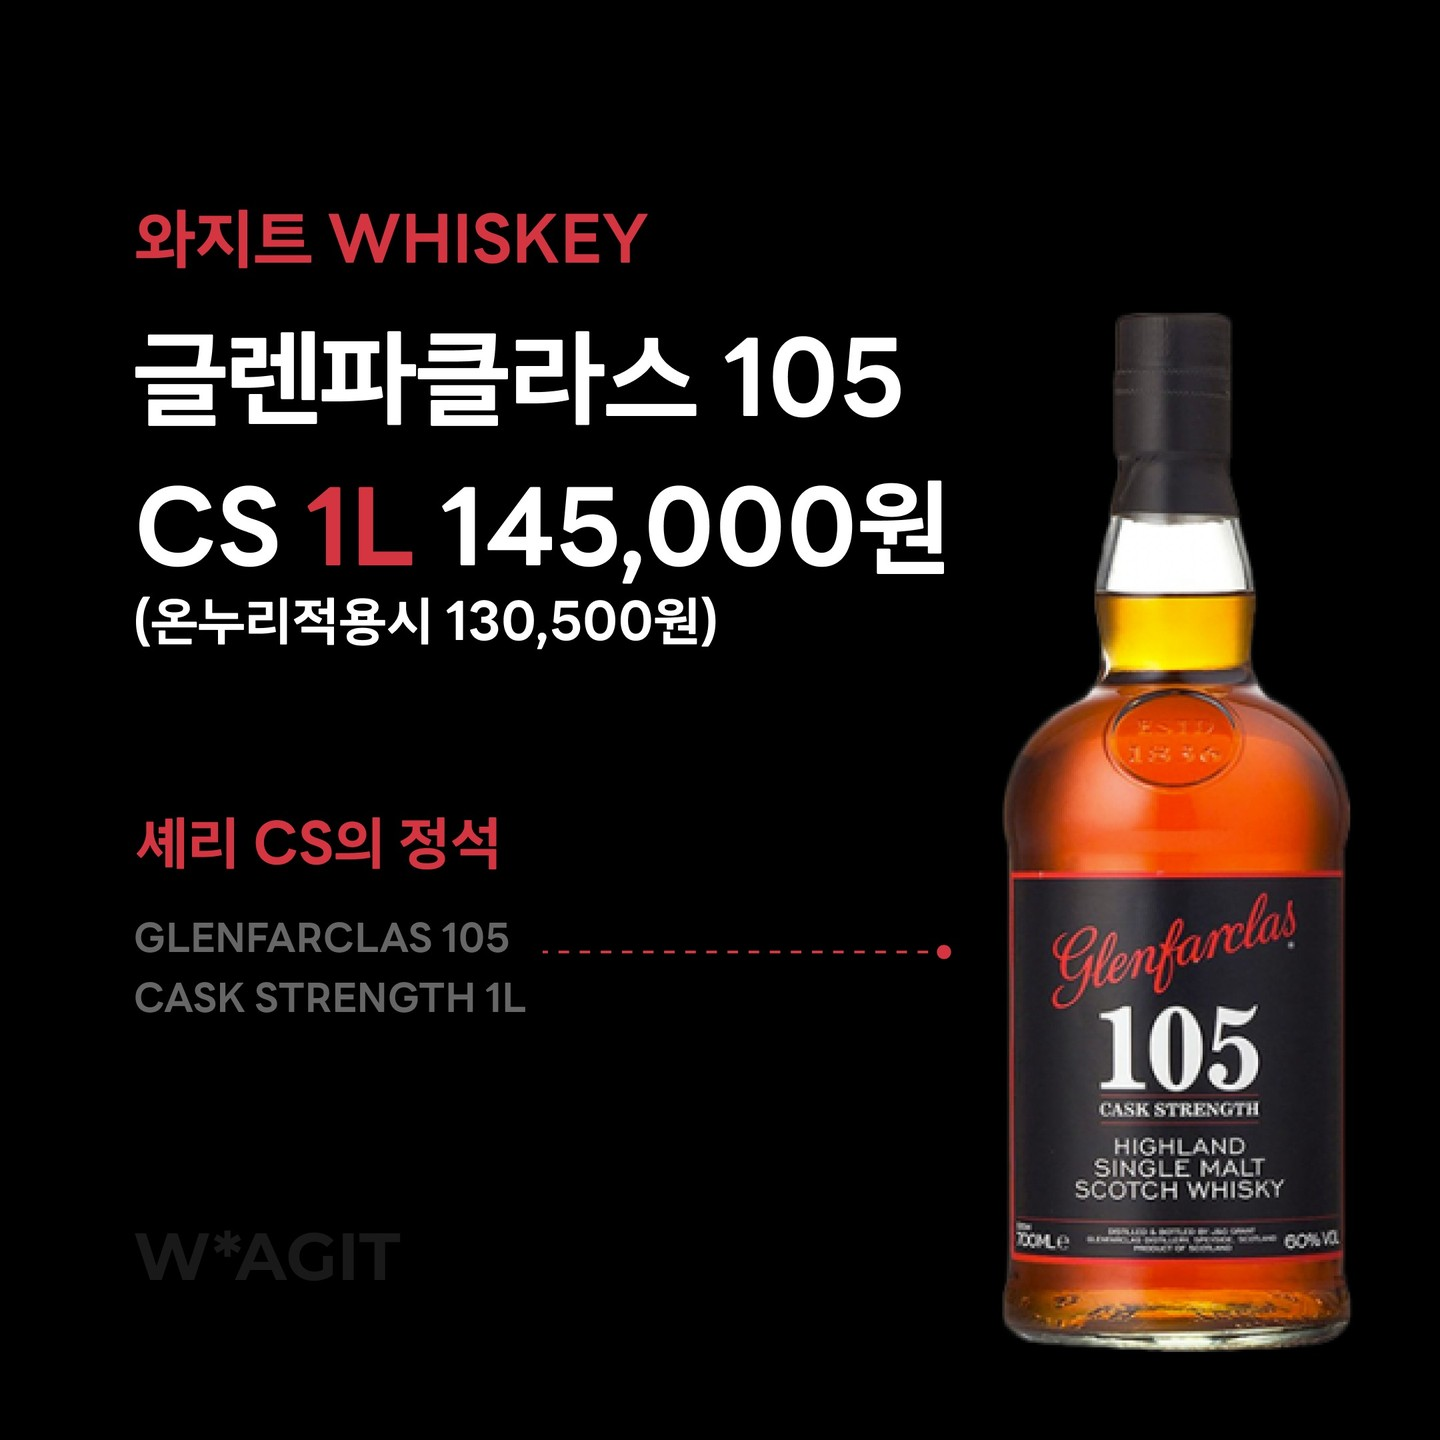alcohol: (992, 303, 1364, 1358)
